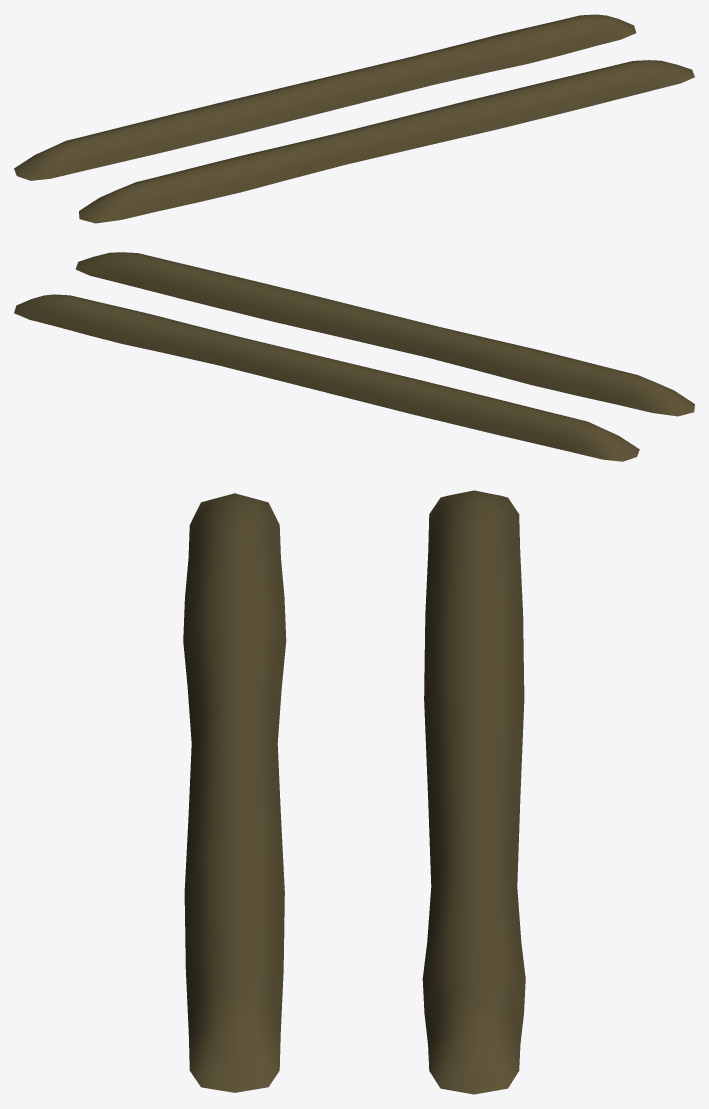
Rendered from Farm_FirstAge_Level1.glb.
3 renders of one model, top to bottom at view 1: azimuth 30°, elevation 25°; view 2: azimuth 150°, elevation 25°; view 3: azimuth 270°, elevation 25°, orthographic. The views are drawn at different scales.
Visible parts, largest first — view 1: Farm_FirstAge_Level1; view 2: Farm_FirstAge_Level1; view 3: Farm_FirstAge_Level1.
Part boxes in pixels (bbox=[...]): Farm_FirstAge_Level1: bbox=[14, 14, 694, 223]; Farm_FirstAge_Level1: bbox=[14, 252, 694, 461]; Farm_FirstAge_Level1: bbox=[183, 490, 525, 1094].
Size of the model in its own units: 0.0177 by 0.000563 by 0.00425.
